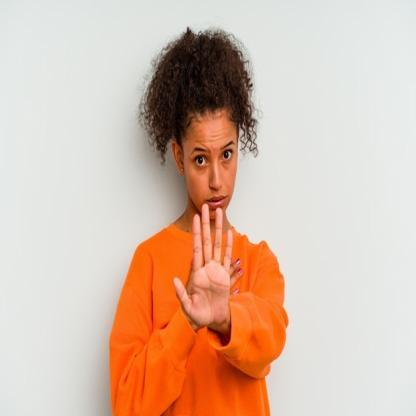stop: (172, 202, 233, 333)
